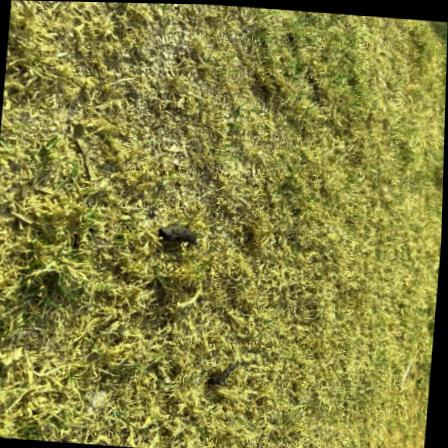dog-poop: (158, 220, 205, 246), (209, 356, 243, 391)
